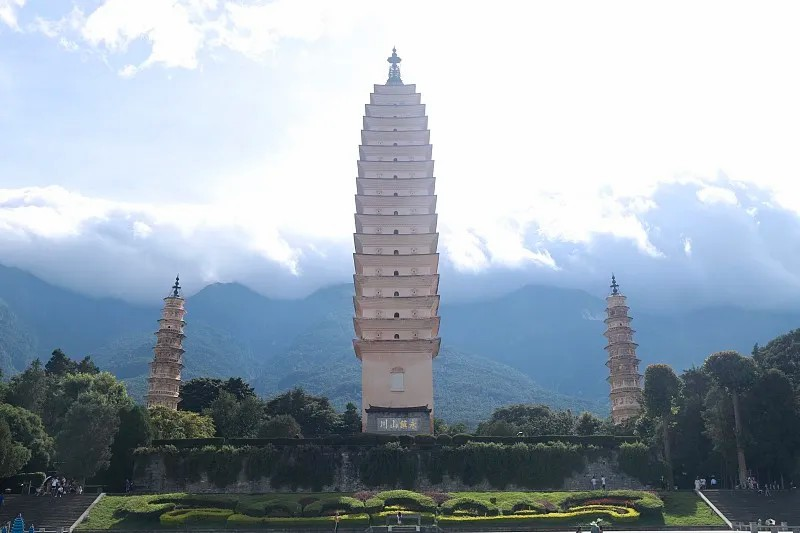ThreePagoda: (352, 47, 441, 433)
